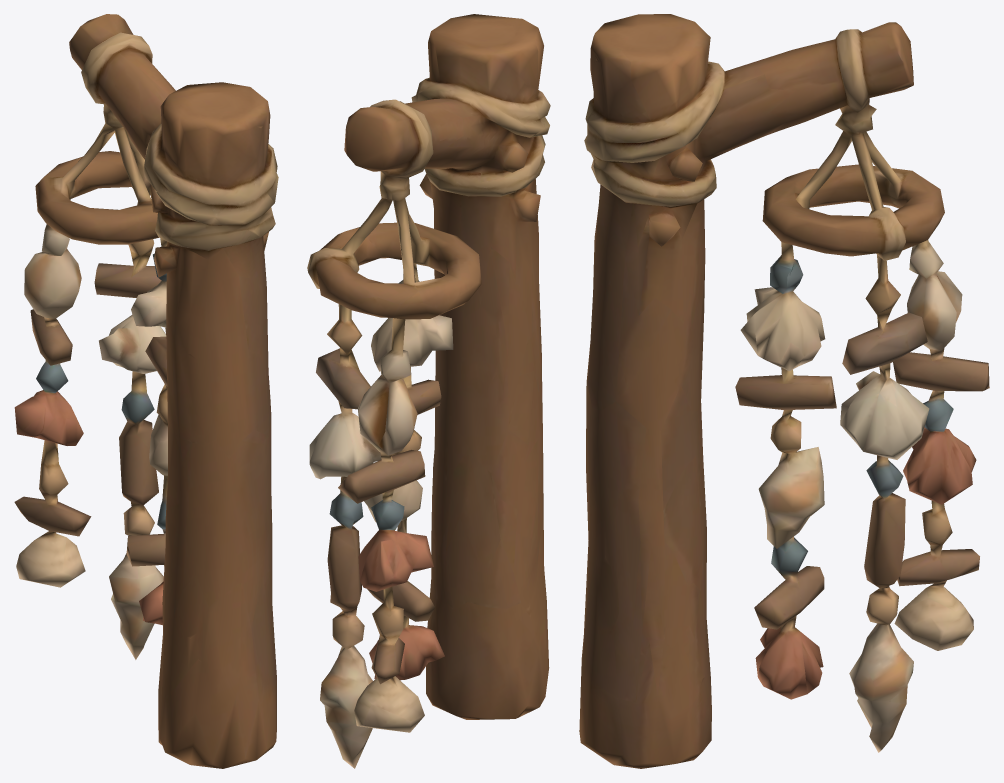
Rendered from f-chime.glb.
The picture shows the model from 3 angles, left to right: view 1: azimuth 30°, elevation 25°; view 2: azimuth 150°, elevation 25°; view 3: azimuth 270°, elevation 25°; orthographic projection. The views are drawn at different scales.
Visible parts, largest first — view 1: tripo_node_0638831d-ab8d-46cb-b11b-3a9ccd911031; view 2: tripo_node_0638831d-ab8d-46cb-b11b-3a9ccd911031; view 3: tripo_node_0638831d-ab8d-46cb-b11b-3a9ccd911031.
Boxes of the visible parts, x1,y1,x2,y2 form: tripo_node_0638831d-ab8d-46cb-b11b-3a9ccd911031: [14, 14, 278, 768]; tripo_node_0638831d-ab8d-46cb-b11b-3a9ccd911031: [307, 14, 550, 768]; tripo_node_0638831d-ab8d-46cb-b11b-3a9ccd911031: [579, 14, 989, 768].
Size of the model in its own units: 0.2264 by 1 by 0.5177.
1 material, 1 textured.
